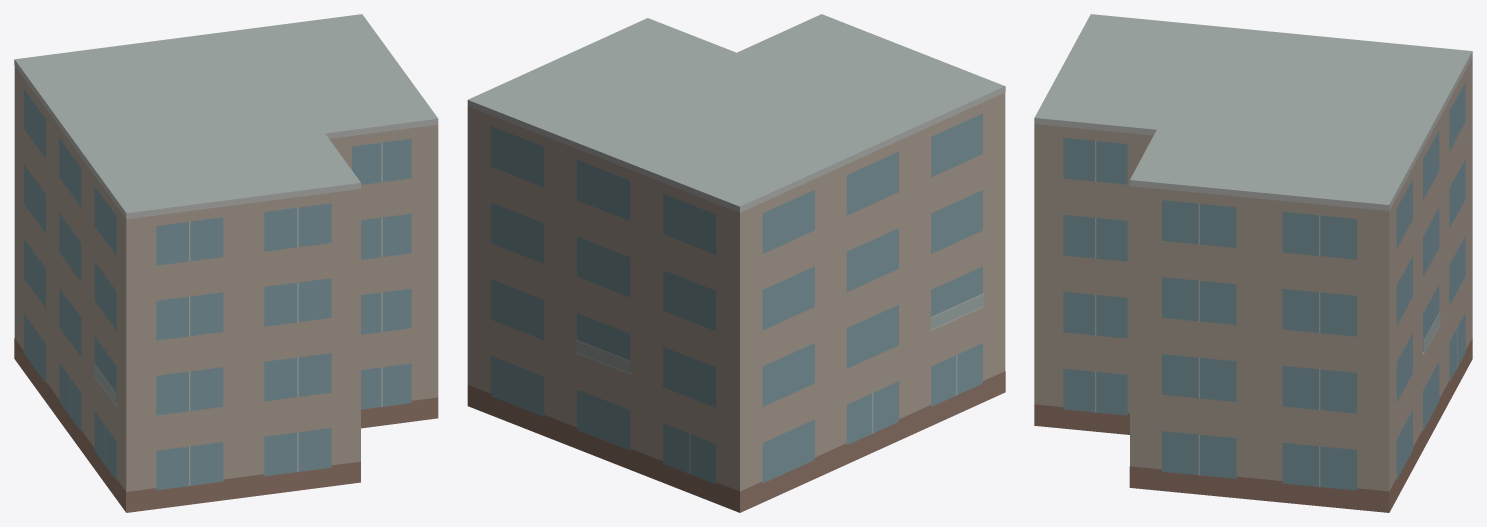
File: residential-9b1bec69-aa1d-401e-a868-4e1200a91001.glb
3 views of the same model, side by side, from view 1: azimuth 30°, elevation 25°; view 2: azimuth 150°, elevation 25°; view 3: azimuth 270°, elevation 25° (orthographic). The views are drawn at different scales.
Parts seen in each view (by area): view 1: residential-9b1bec69-aa1d-401e-a868-4e1200a91001.tmp; view 2: residential-9b1bec69-aa1d-401e-a868-4e1200a91001.tmp; view 3: residential-9b1bec69-aa1d-401e-a868-4e1200a91001.tmp.
Part boxes in pixels (bbox=[...]): residential-9b1bec69-aa1d-401e-a868-4e1200a91001.tmp: bbox=[14, 14, 438, 512]; residential-9b1bec69-aa1d-401e-a868-4e1200a91001.tmp: bbox=[467, 14, 1005, 512]; residential-9b1bec69-aa1d-401e-a868-4e1200a91001.tmp: bbox=[1034, 14, 1472, 512].
Size of the model in its own units: 16.25 by 12.2 by 15.75.
